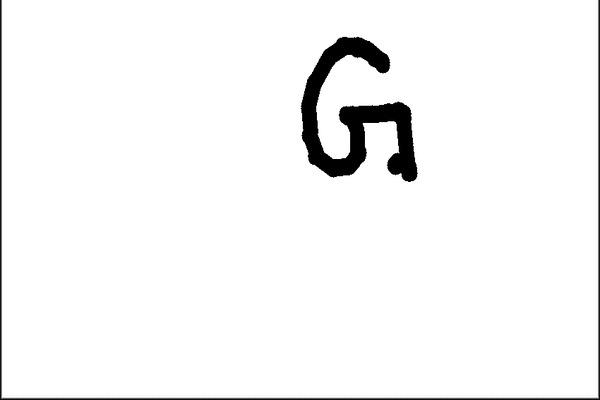G: (298, 32, 423, 189)
